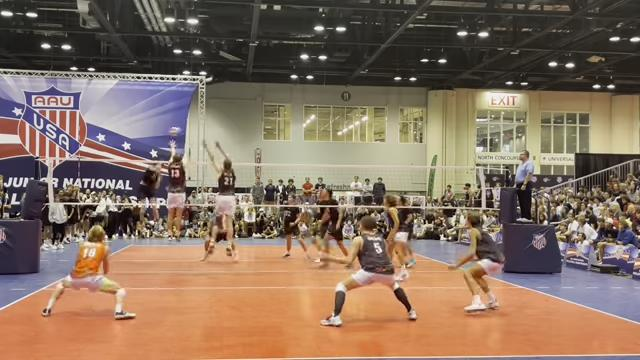Block: (197, 134, 239, 258), (161, 138, 188, 246)
Player: (321, 216, 416, 326), (42, 226, 135, 319), (449, 212, 503, 312), (316, 189, 347, 255), (384, 195, 408, 280), (201, 214, 226, 261), (400, 196, 416, 267), (282, 196, 299, 257), (297, 210, 311, 259)
ball: (168, 125, 181, 137)
